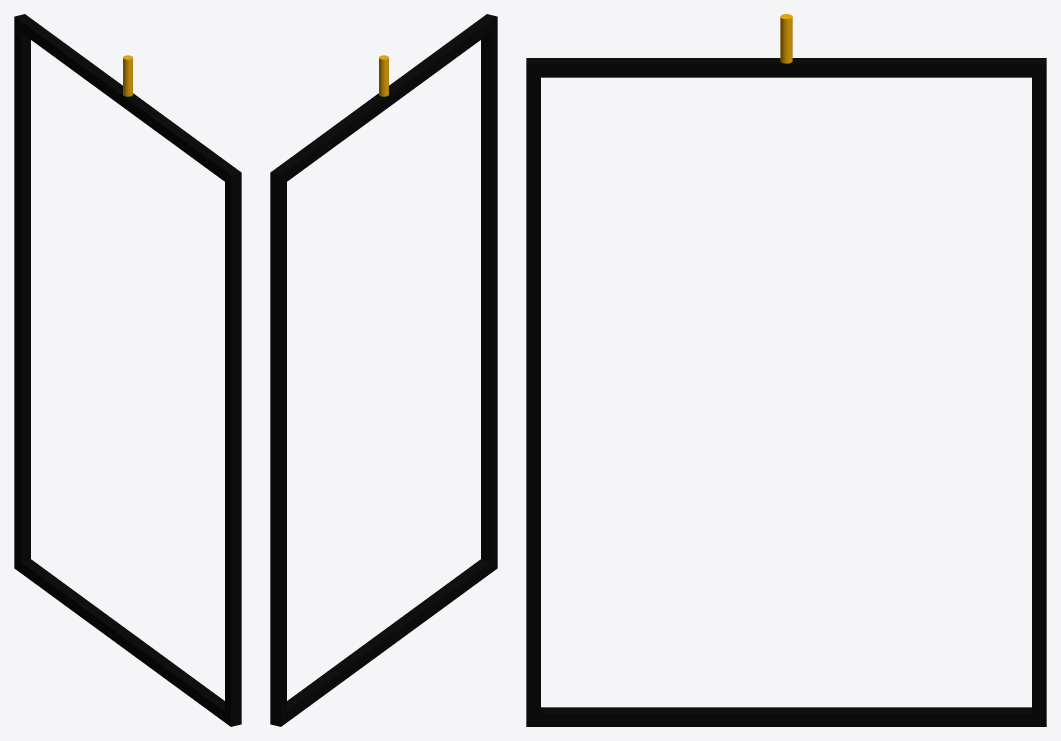
The model's file is teknofest_pinger.dae.
3 renders of one model, left to right at view 1: azimuth 30°, elevation 25°; view 2: azimuth 150°, elevation 25°; view 3: azimuth 270°, elevation 25°, orthographic. The views are drawn at different scales.
Parts seen in each view (by area): view 1: left-profile, right-profile, top-profile, bottom-profile, pinger-socket; view 2: right-profile, left-profile, top-profile, bottom-profile, pinger-socket; view 3: left-profile, right-profile, top-profile, bottom-profile.
Part boxes in pixels (x1,y1,x2,y2): left-profile: (225,168,241,726); right-profile: (14,14,30,572); top-profile: (14,15,241,185); bottom-profile: (14,557,239,724); pinger-socket: (123,55,132,96); right-profile: (270,168,286,726); left-profile: (481,14,497,570); top-profile: (270,14,497,185); bottom-profile: (271,558,496,726); pinger-socket: (379,55,388,96); left-profile: (526,58,540,726); right-profile: (1032,58,1046,726); top-profile: (526,58,1046,77); bottom-profile: (526,707,1046,726).
Size of the model in its own units: 0.03 by 1.06 by 1.59.
